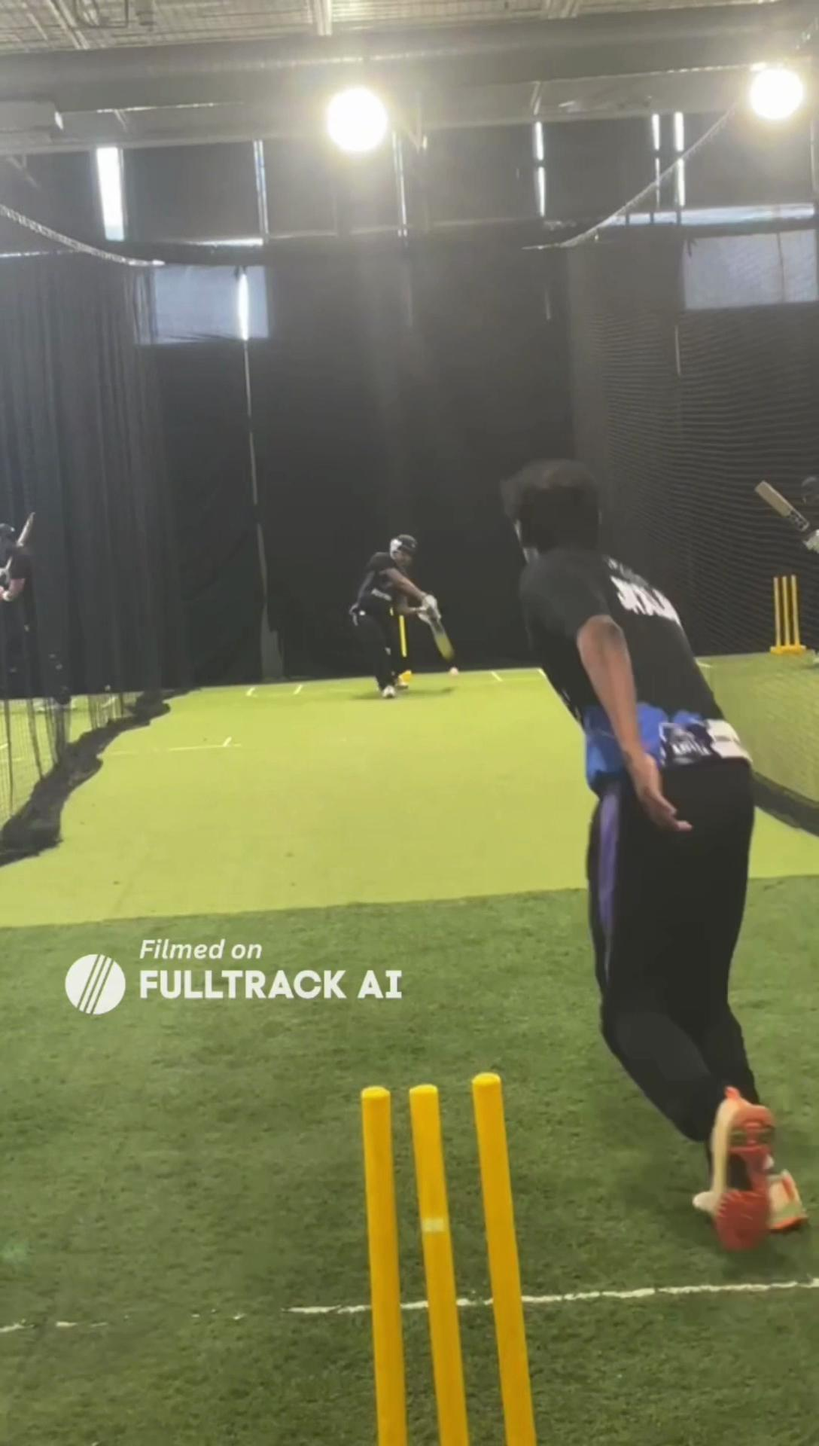ball: (448, 667, 460, 678)
